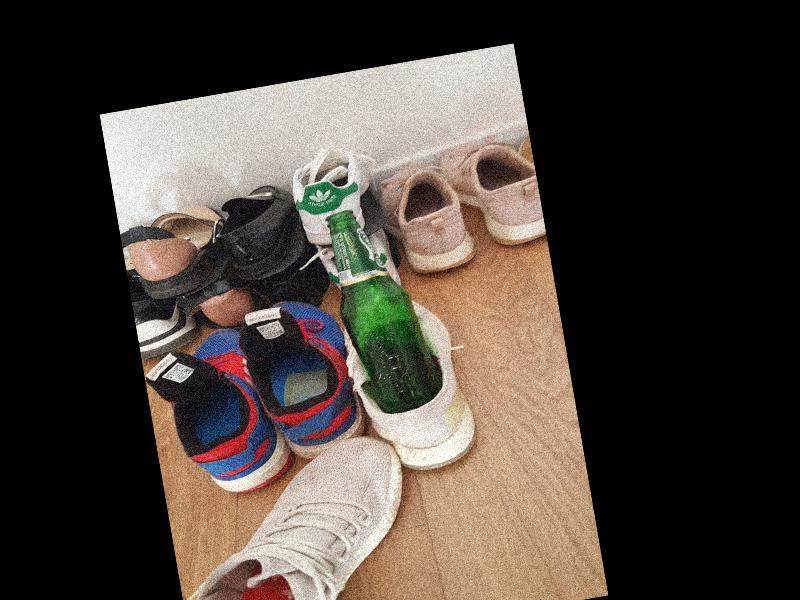Beer: (322, 201, 444, 419)
